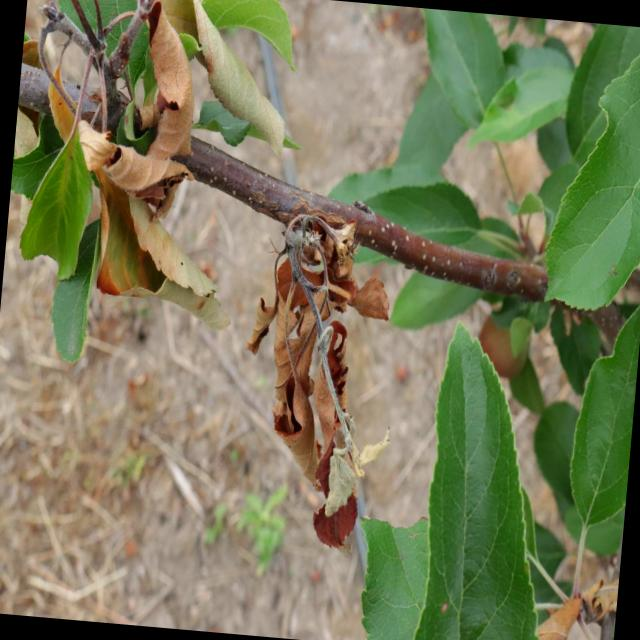-FireBlight-: (240, 202, 390, 550), (44, 40, 211, 315), (146, 0, 291, 156)
